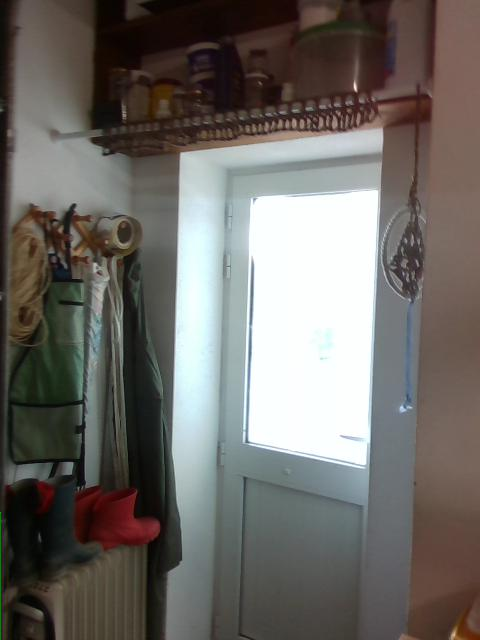closed_door: (166, 118, 427, 639)
